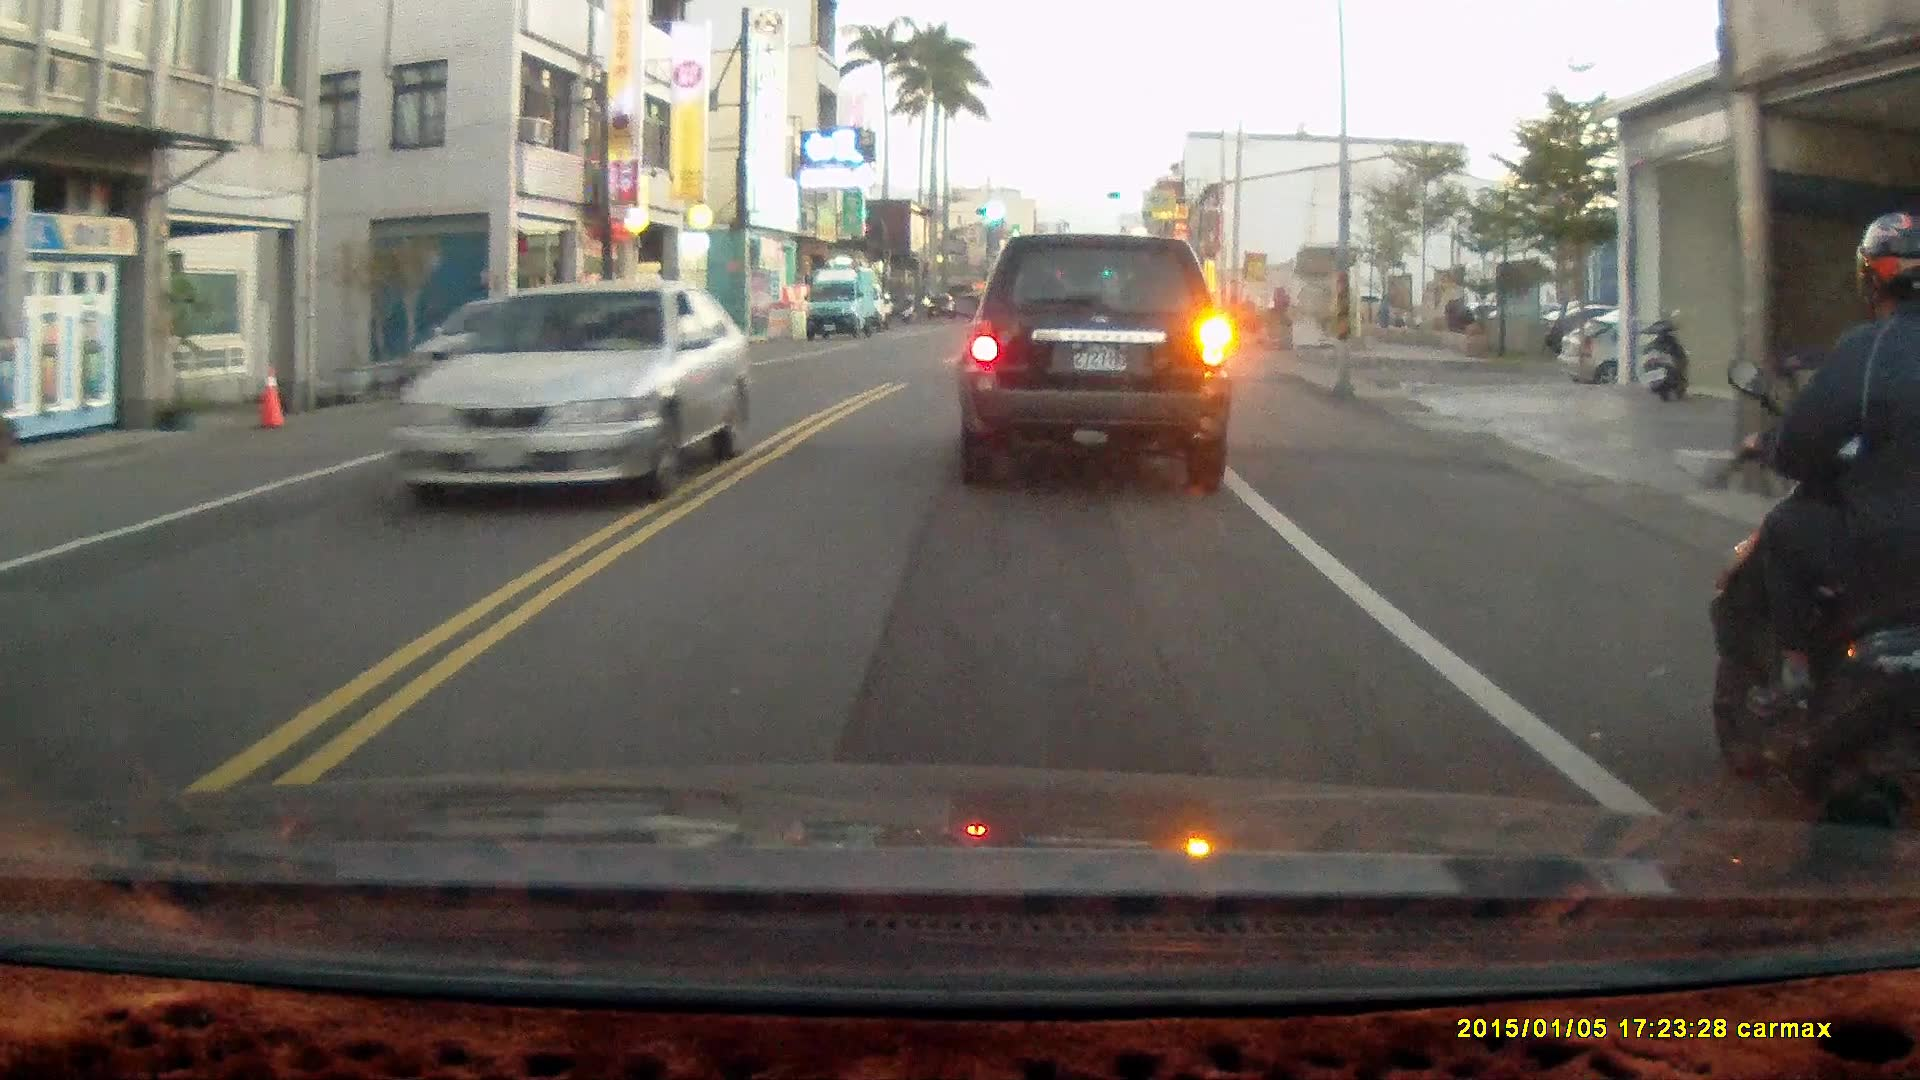rider: (1700, 212, 1919, 879)
vehicle: (392, 282, 750, 505), (959, 233, 1239, 499), (1554, 320, 1762, 394), (807, 268, 882, 343)
